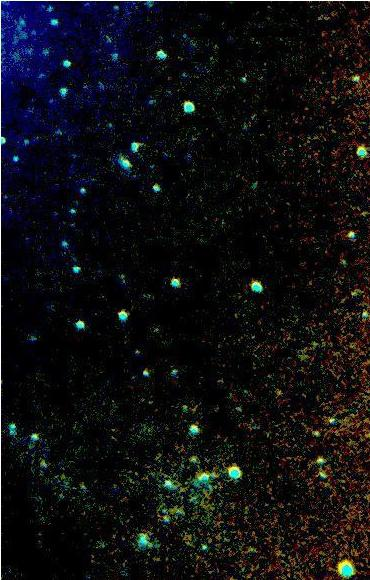star: (263, 378, 293, 408)
